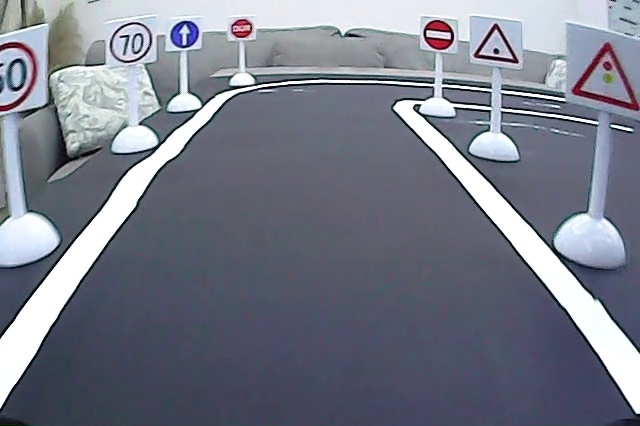do not enter: (420, 18, 457, 53)
green light: (472, 19, 521, 67)
red light: (568, 37, 640, 115)
speed limit 70: (108, 18, 155, 66)
stop sign: (228, 17, 255, 41)
